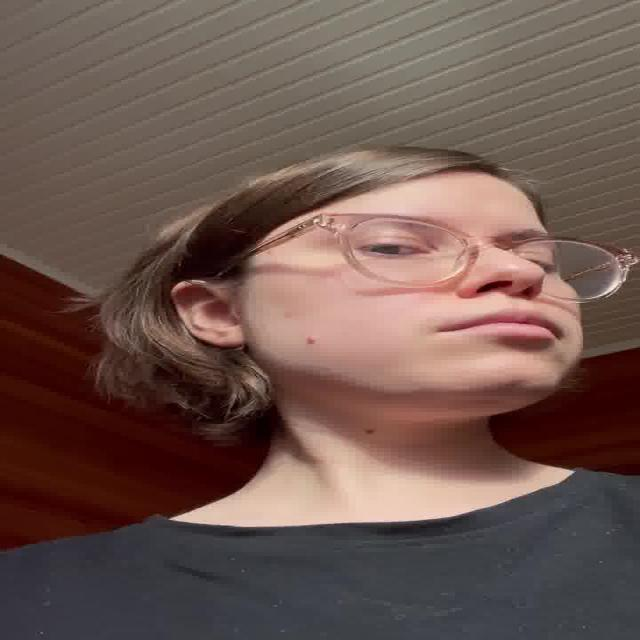earlobe: (211, 325, 247, 348)
eye: (359, 239, 430, 257), (521, 254, 560, 274)
nose: (465, 282, 549, 308)
wholeear: (171, 278, 246, 348)
